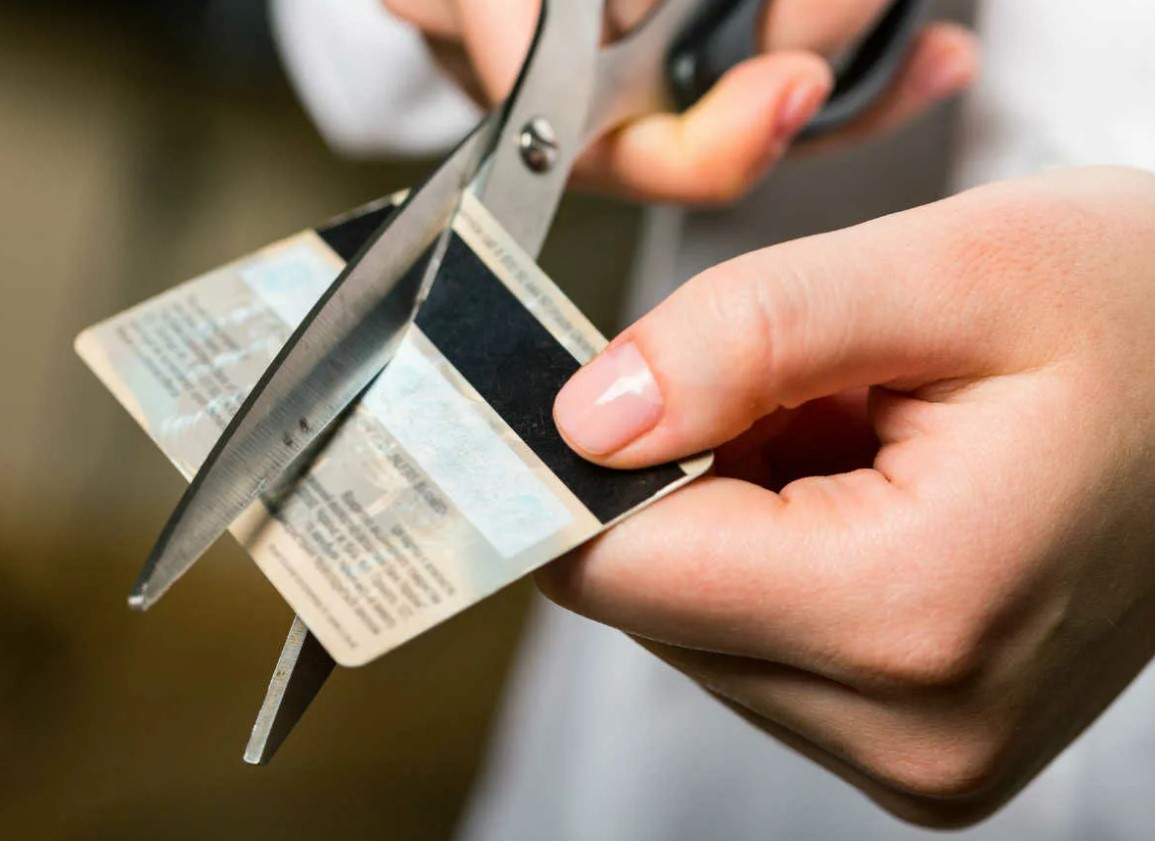card: (72, 168, 713, 662)
